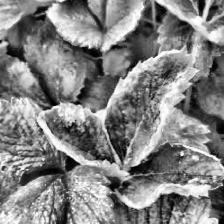Powdery Mildew Leaf: (101, 44, 202, 170), (114, 142, 224, 210), (38, 101, 128, 177), (56, 164, 115, 224), (0, 173, 67, 224), (138, 0, 206, 24)
